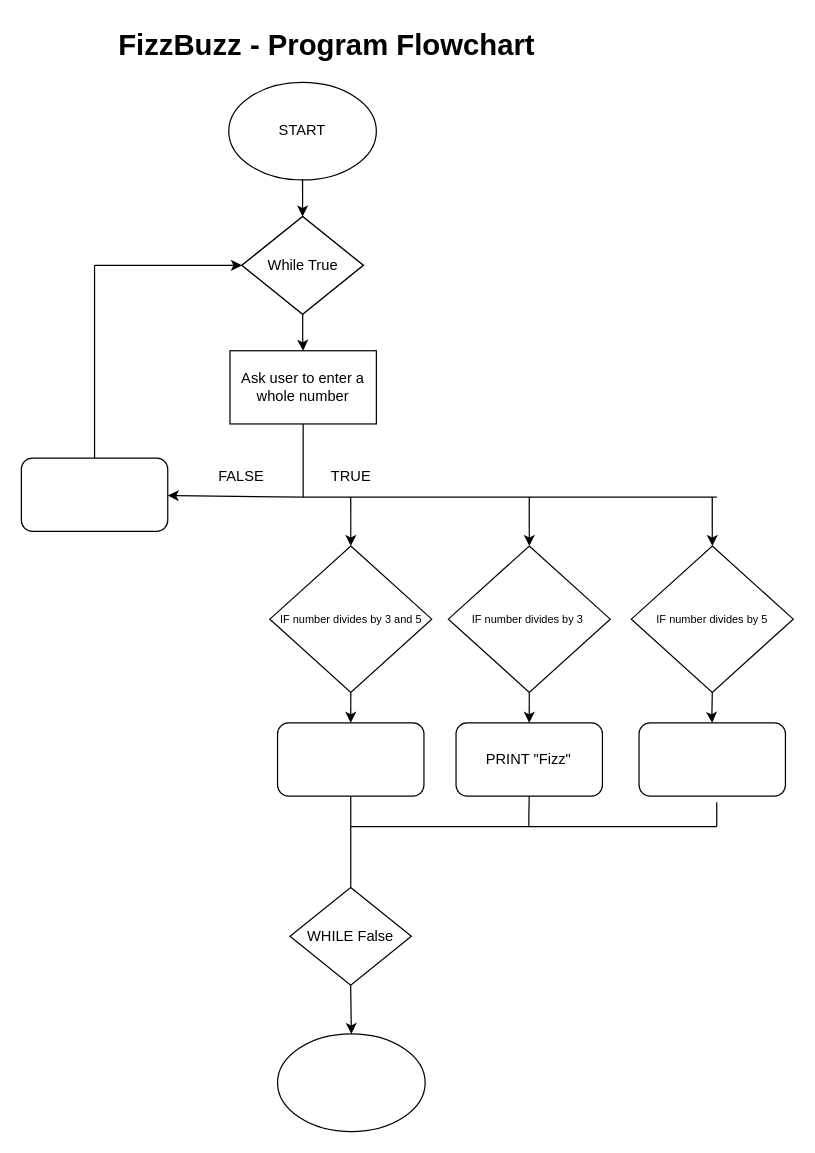
The diagram is 815 pixels wide and 1153 high, and some of its shapes have lost their labels. Here are the shapes that lost their labels. From the top down, the centre of each, then its label:
(x=94, y=494): Raise format exception and display to use
(x=350, y=759): PRINT "FizzBuzz"
(x=711, y=759): PRINT "Buzz"
(x=350, y=1082): END
